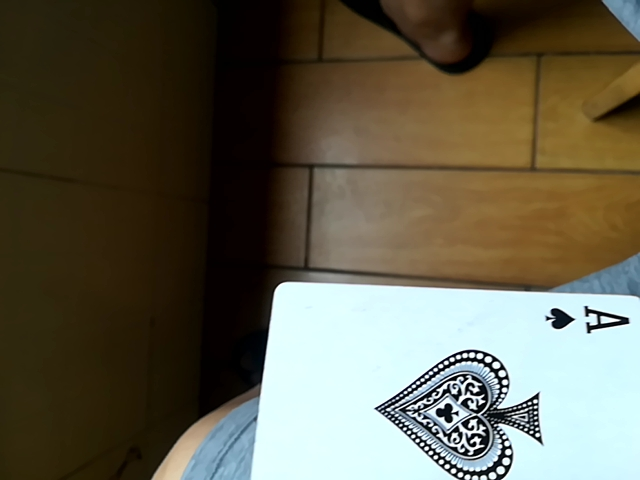ht a: (245, 280, 640, 479)
